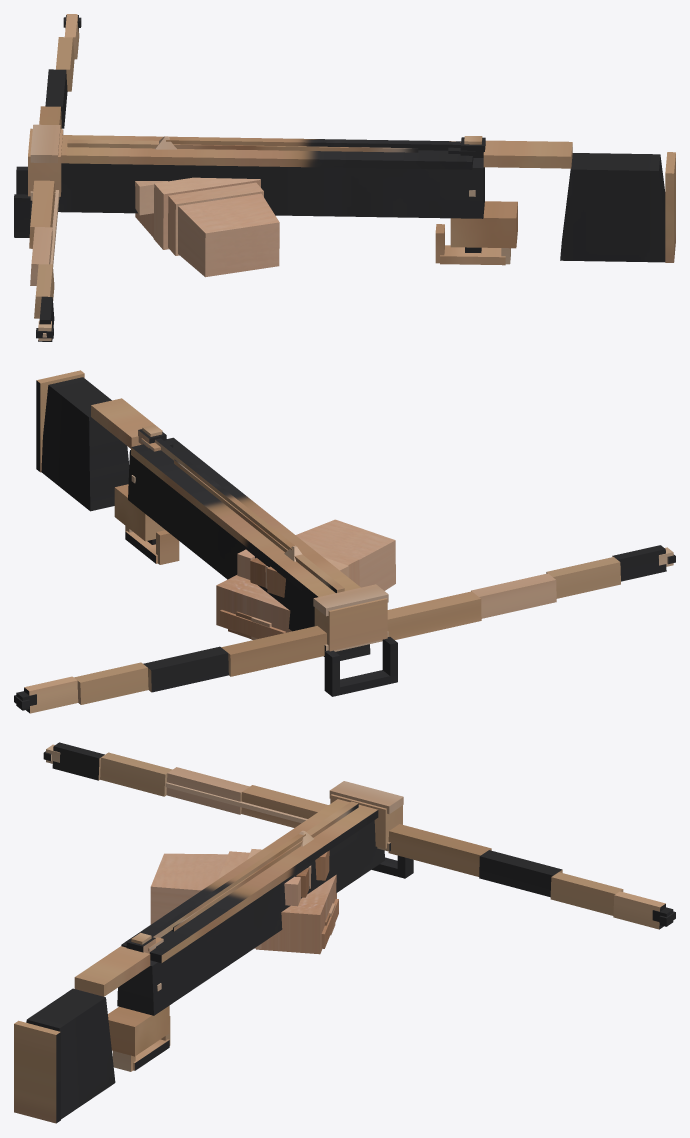
File: left_fist_crossbow.glb
3 views of the same model, one above another, from view 1: azimuth 30°, elevation 25°; view 2: azimuth 150°, elevation 25°; view 3: azimuth 270°, elevation 25° (orthographic).
Parts seen in each view (by area): view 1: PS1_Crossbow, PS1_Fist; view 2: PS1_Crossbow, PS1_Fist; view 3: PS1_Crossbow, PS1_Fist.
Boxes of the visible parts, x1,y1,x2,y2 form: PS1_Crossbow: [14, 14, 675, 341]; PS1_Fist: [135, 177, 279, 277]; PS1_Crossbow: [14, 370, 675, 713]; PS1_Fist: [216, 519, 395, 639]; PS1_Crossbow: [14, 742, 675, 1123]; PS1_Fist: [150, 849, 338, 954].
Bounding box in the file's own units: 0.6752 × 0.121 × 0.6098.
2 materials, 2 textured.
